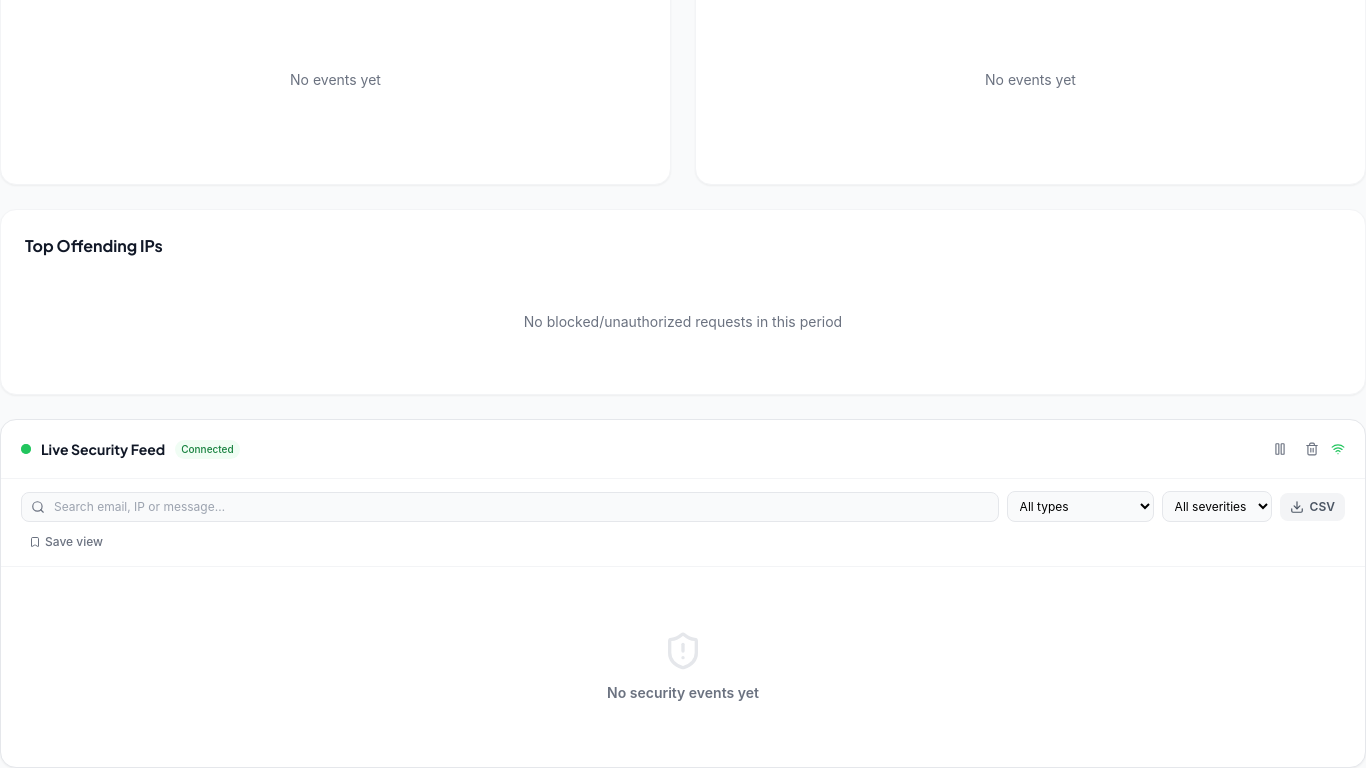
Scenario: OverviewTab › says when filters, not an empty system, are why there is nothing to show
(page scrolled)
Expected: the text "No security events yet" is shown, [607,683,759,703]
Type "nobody" into the field named "Search the live feed" at (510, 506), box [21,492,999,522]
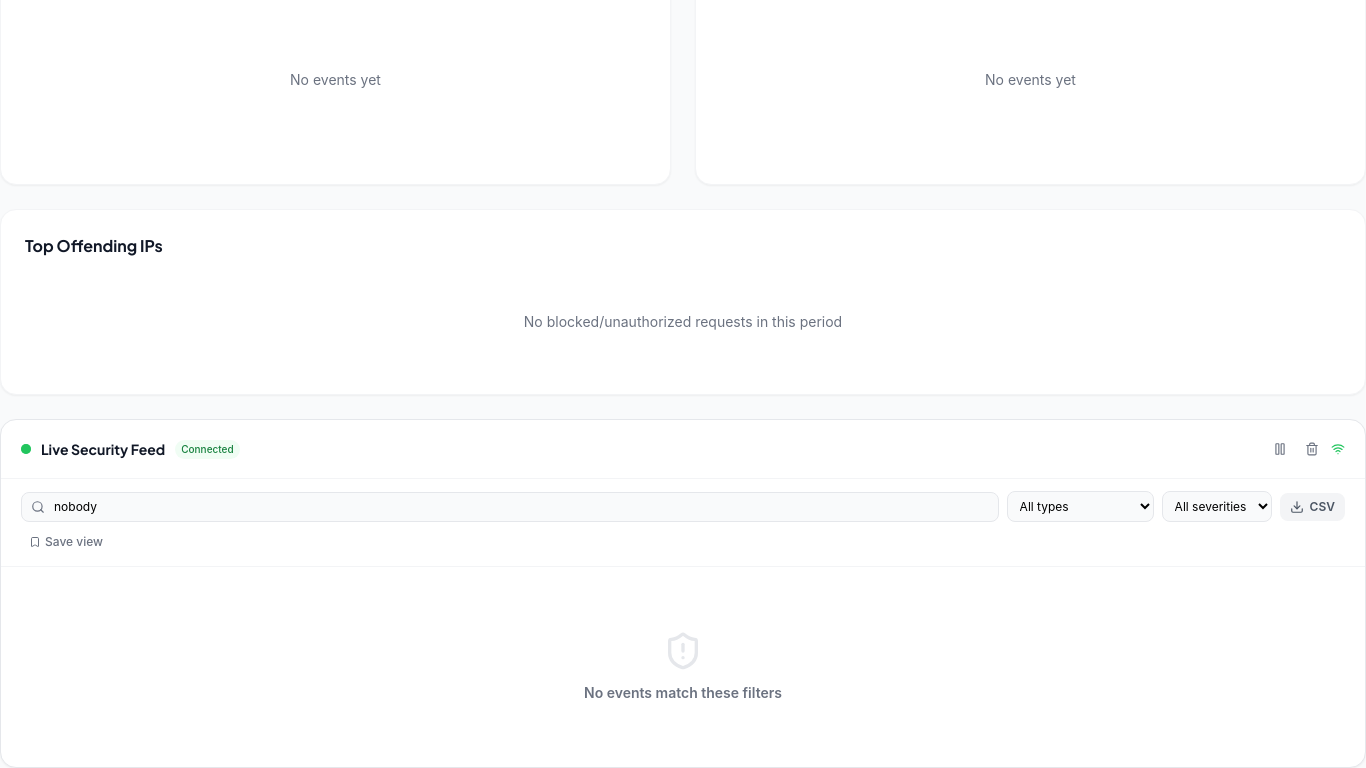
Expected: the text "No events match these filters" is shown, [584,683,782,703]
